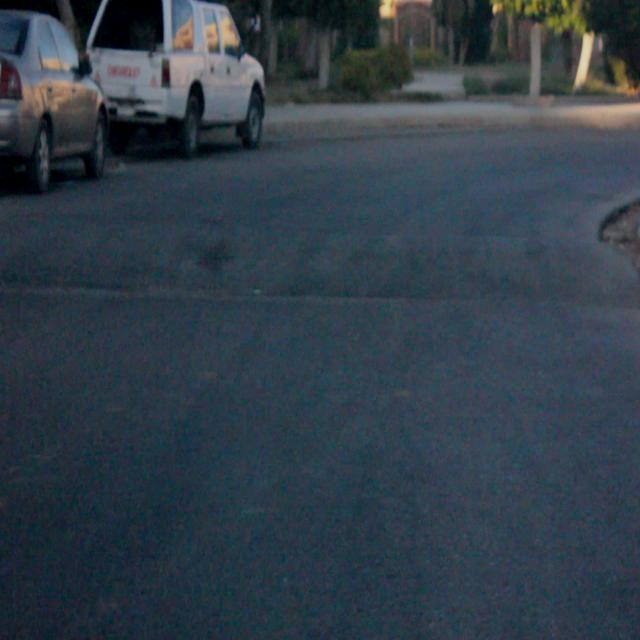NonMarked Bump: (35, 190, 640, 305)
